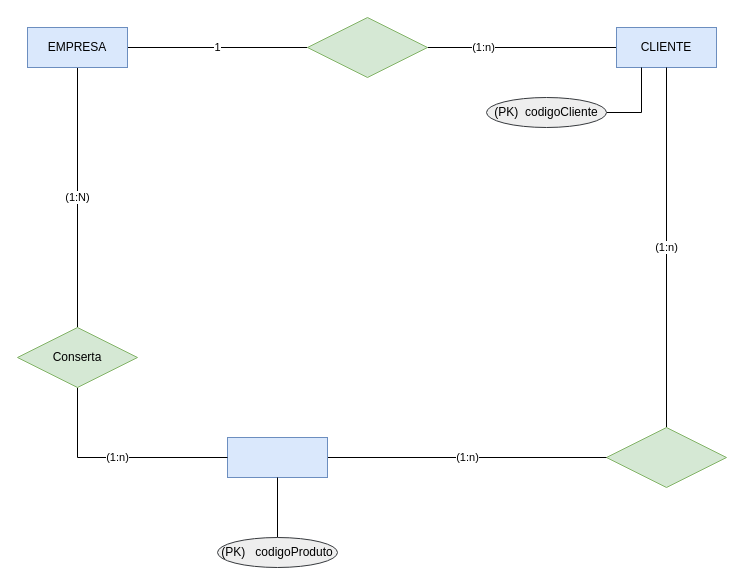
Some shapes in this 744 by 585 pixel diagram are drawn without their labels. The shapes that lost their labels are listed below. From the top down, each one's centre as x and y in pixels, then its label:
At [367,47]: "Contata".
At [277,457]: "PRODUTO".
At [666,457]: "Pertence".
